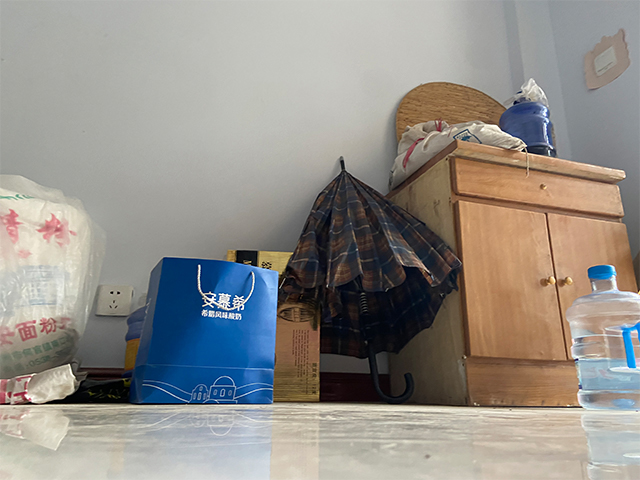cabinet: (387, 136, 640, 410)
